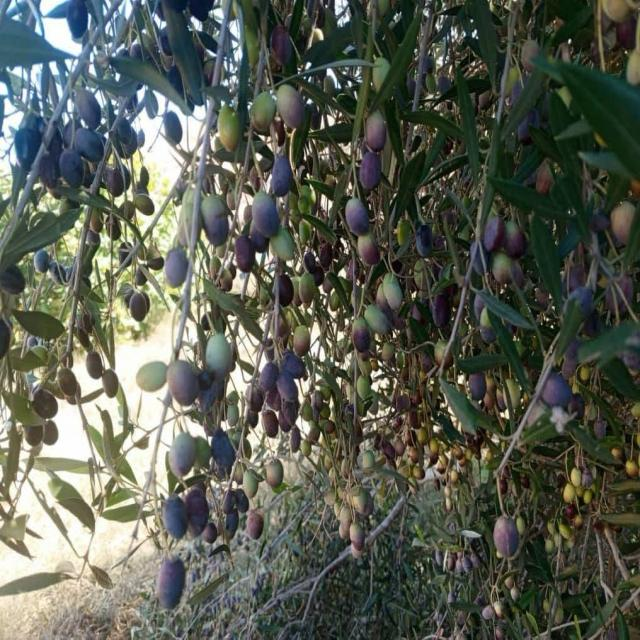Healthy: (162, 490, 209, 541), (166, 359, 201, 407), (251, 191, 280, 237), (277, 84, 305, 129), (217, 105, 242, 153), (493, 515, 520, 559), (60, 146, 84, 189), (345, 197, 369, 236), (365, 110, 387, 152), (358, 152, 381, 191)
